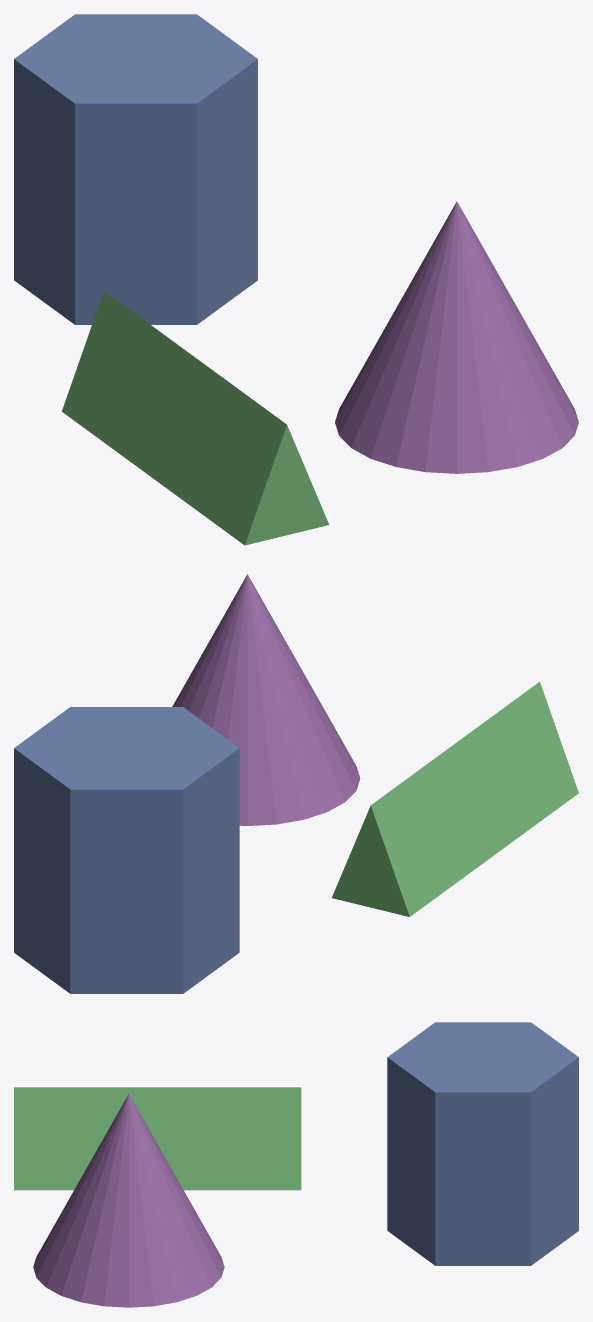
The model's file is Geometria.glb.
3 renders of one model, top to bottom at view 1: azimuth 30°, elevation 25°; view 2: azimuth 150°, elevation 25°; view 3: azimuth 270°, elevation 25°, orthographic. The views are drawn at different scales.
Visible parts, largest first — view 1: Mesh_Mesh_head_geo.001_lambert2SG.001; view 2: Mesh_Mesh_head_geo.001_lambert2SG.001; view 3: Mesh_Mesh_head_geo.001_lambert2SG.001.
Part boxes in pixels (left/top/right/bottom): Mesh_Mesh_head_geo.001_lambert2SG.001: left=14, top=14, right=578, bottom=545; Mesh_Mesh_head_geo.001_lambert2SG.001: left=14, top=574, right=578, bottom=993; Mesh_Mesh_head_geo.001_lambert2SG.001: left=14, top=1022, right=578, bottom=1307.
Bounding box in the file's own units: 37 × 20 × 59.
